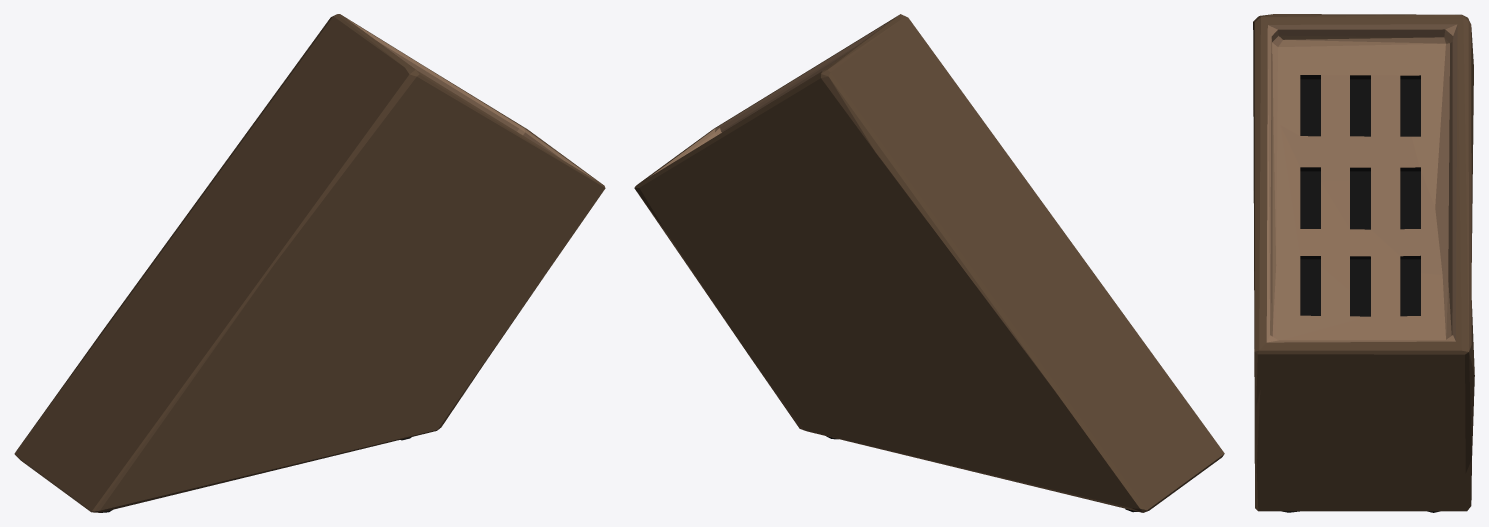
File: KnifeBlock.fbx
3 views of the same model, side by side, from view 1: azimuth 30°, elevation 25°; view 2: azimuth 150°, elevation 25°; view 3: azimuth 270°, elevation 25° (orthographic). The views are drawn at different scales.
Parts seen in each view (by area): view 1: KnifeBlockLowPoly; view 2: KnifeBlockLowPoly; view 3: KnifeBlockLowPoly.
Boxes of the visible parts, x1,y1,x2,y2 form: KnifeBlockLowPoly: (14, 14, 605, 512); KnifeBlockLowPoly: (634, 14, 1224, 512); KnifeBlockLowPoly: (1253, 14, 1474, 512).
Size of the model in its own units: 32 by 22.31 by 9.1.
